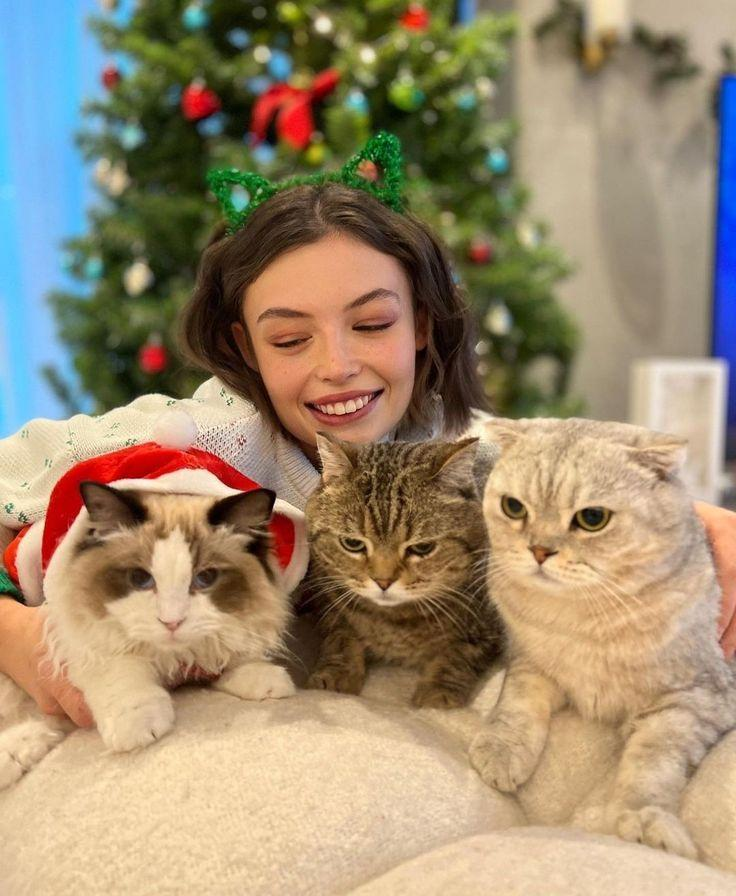kedo: (482, 405, 736, 839), (44, 483, 295, 747), (309, 428, 500, 710)
